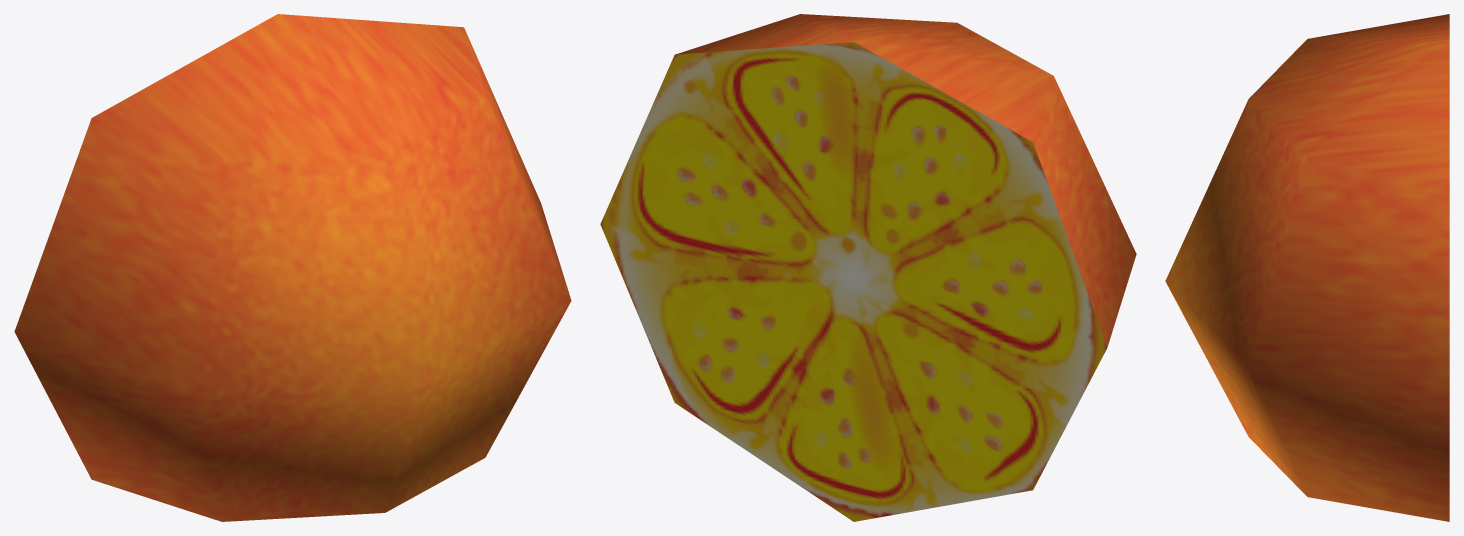
File: OrangeS.FBX
3 views of the same model, side by side, from view 1: azimuth 30°, elevation 25°; view 2: azimuth 150°, elevation 25°; view 3: azimuth 270°, elevation 25° (orthographic). The views are drawn at different scales.
Visible parts, largest first — view 1: Orange Slice; view 2: Orange Slice; view 3: Orange Slice.
Part boxes in pixels (x1,y1,x2,y2): Orange Slice: (14, 14, 571, 521); Orange Slice: (600, 14, 1136, 521); Orange Slice: (1165, 14, 1449, 521).
Bounding box in the file's own units: 10.56 × 9.55 × 5.28.
